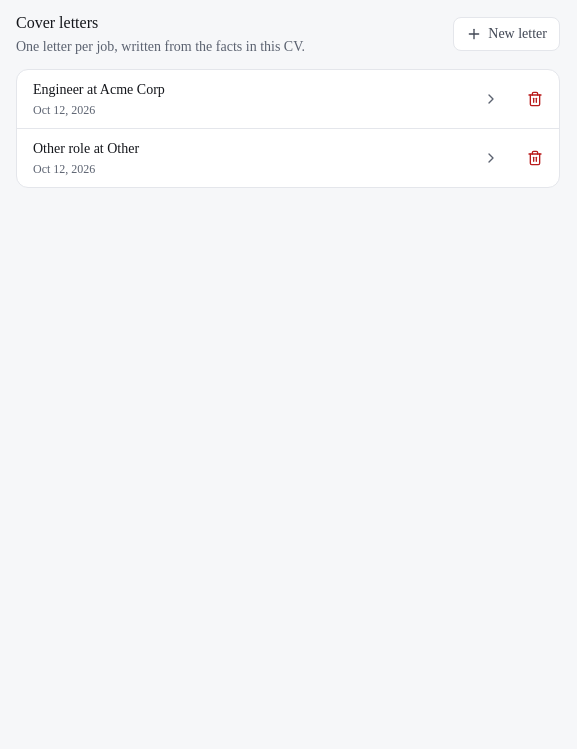
Test: CoverLetterPanel: copy and export act on the open letter › Copy copies the open letter
This screenshot has width=577, height=749.
Click the button "Engineer at Acme Corp Oct 12, 2026". click: [99, 90]
box: x1=17 y1=70 x2=515 y2=128
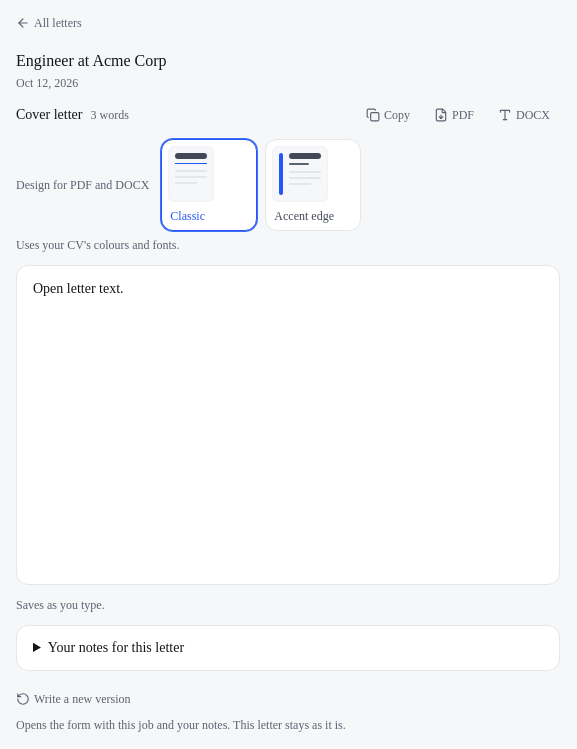
Click the button "Copy". click: [388, 115]
box: x1=356 y1=103 x2=420 y2=127
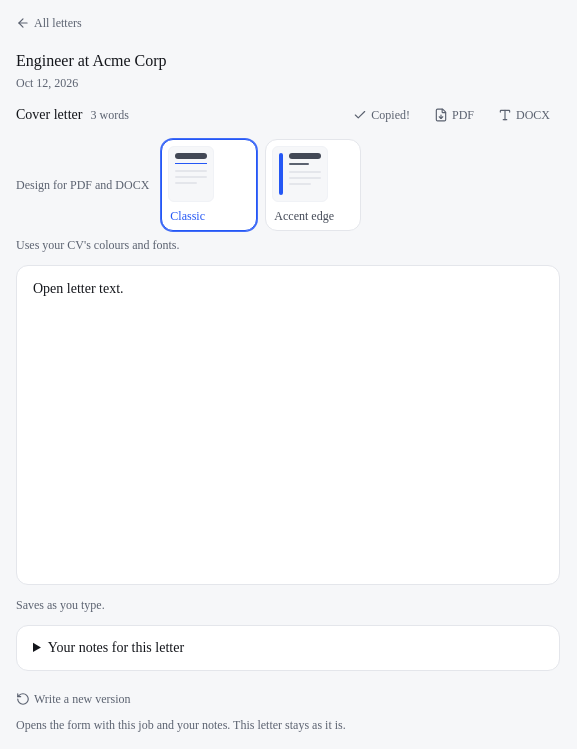
Now the button "Copied!" is shown, box x1=343 y1=103 x2=420 y2=127
